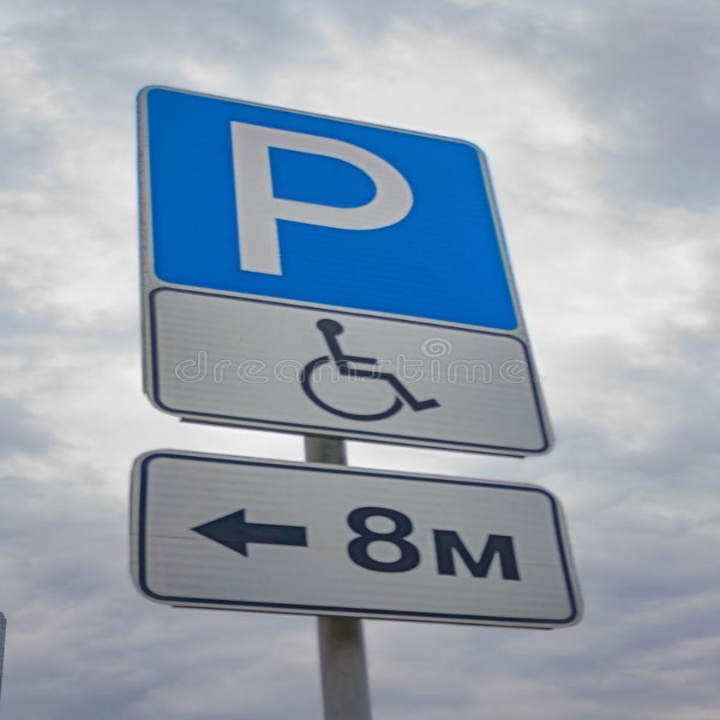parking: (218, 113, 422, 294)
